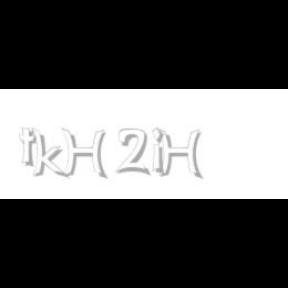2: (115, 128, 149, 176)
H: (61, 128, 107, 180), (156, 128, 202, 180)
i: (152, 128, 168, 176)
k: (31, 128, 69, 180)
t: (19, 128, 41, 168)
